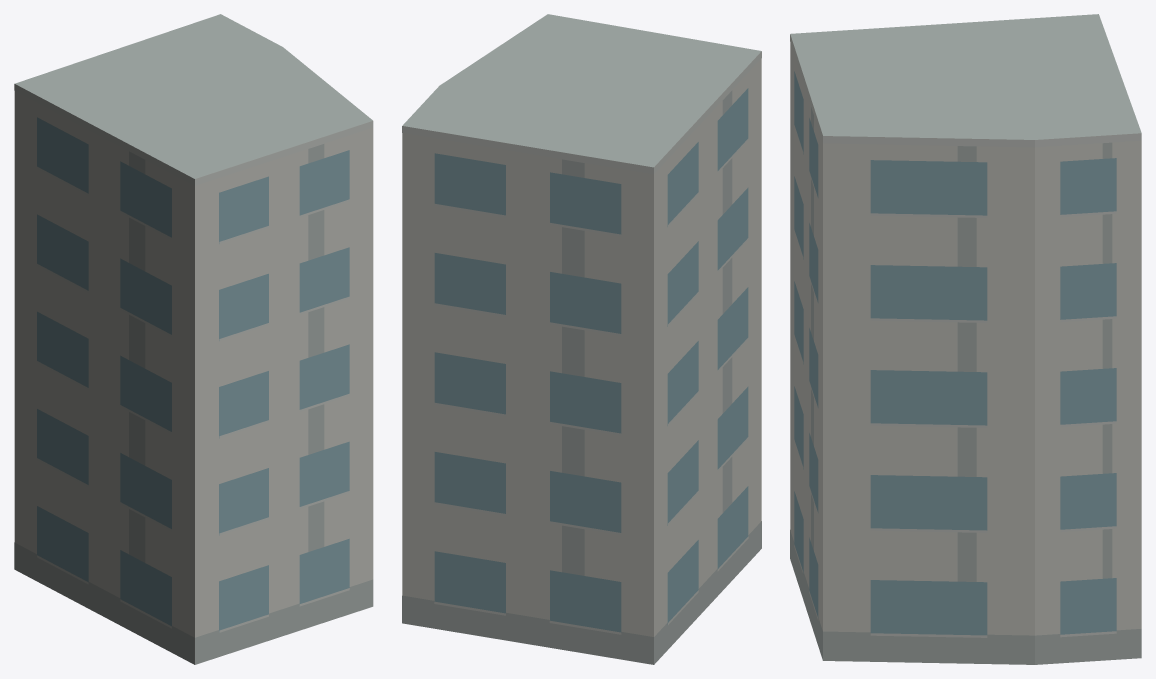
File: survey-upis-32798292.glb
3 renders of one model, left to right at view 1: azimuth 30°, elevation 25°; view 2: azimuth 150°, elevation 25°; view 3: azimuth 270°, elevation 25°, orthographic. The views are drawn at different scales.
Parts seen in each view (by area): view 1: survey-upis-32798292.tmp; view 2: survey-upis-32798292.tmp; view 3: survey-upis-32798292.tmp.
Part boxes in pixels (x1,y1,x2,y2): survey-upis-32798292.tmp: (14,14,373,664); survey-upis-32798292.tmp: (402,14,761,664); survey-upis-32798292.tmp: (790,14,1141,664).
Size of the model in its own units: 8.76 by 17 by 10.33.
